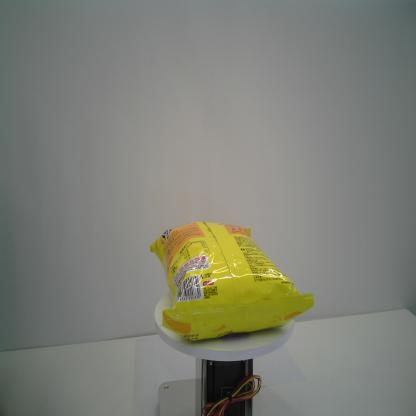Puffed Food: (150, 219, 314, 341)
